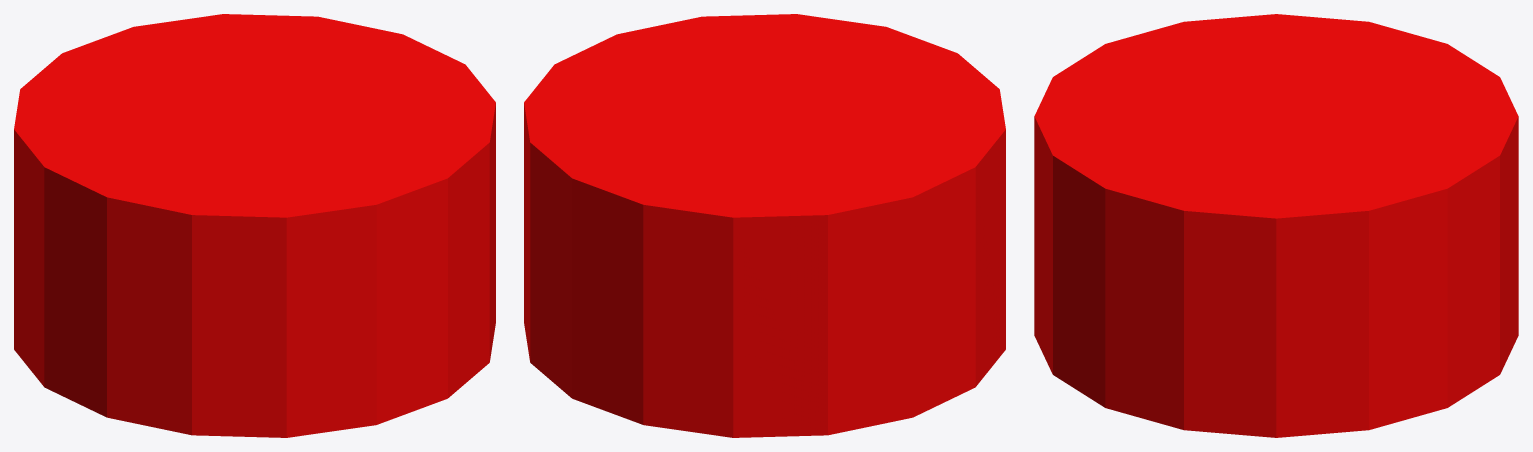
File: SpeedRadarLED.fbx
3 views of the same model, side by side, from view 1: azimuth 30°, elevation 25°; view 2: azimuth 150°, elevation 25°; view 3: azimuth 270°, elevation 25° (orthographic).
Parts seen in each view (by area): view 1: SpeedRadar_LED; view 2: SpeedRadar_LED; view 3: SpeedRadar_LED.
Boxes of the visible parts, x1=… form: SpeedRadar_LED: x1=14, y1=14, x2=495, y2=437; SpeedRadar_LED: x1=524, y1=14, x2=1005, y2=437; SpeedRadar_LED: x1=1034, y1=14, x2=1518, y2=437.
Size of the model in its own units: 0.8 by 0.8 by 0.4.
